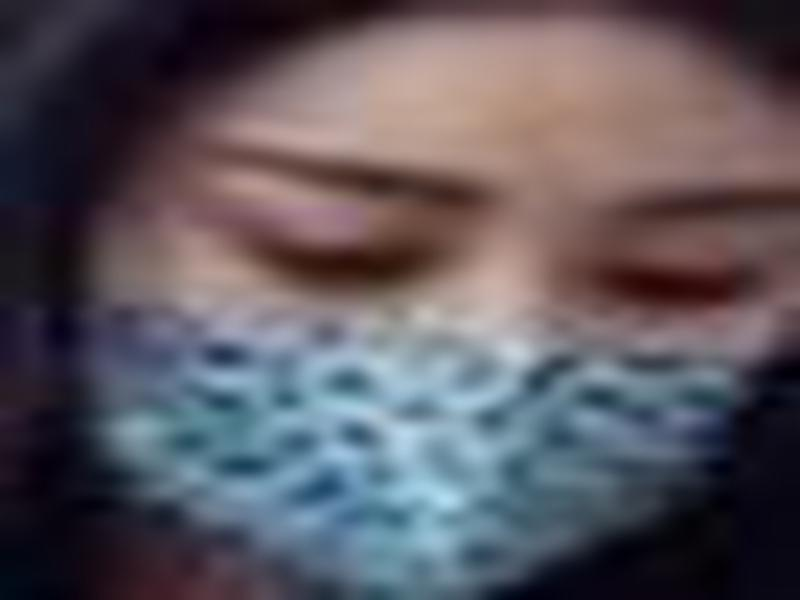with_mask: (54, 6, 797, 600)
